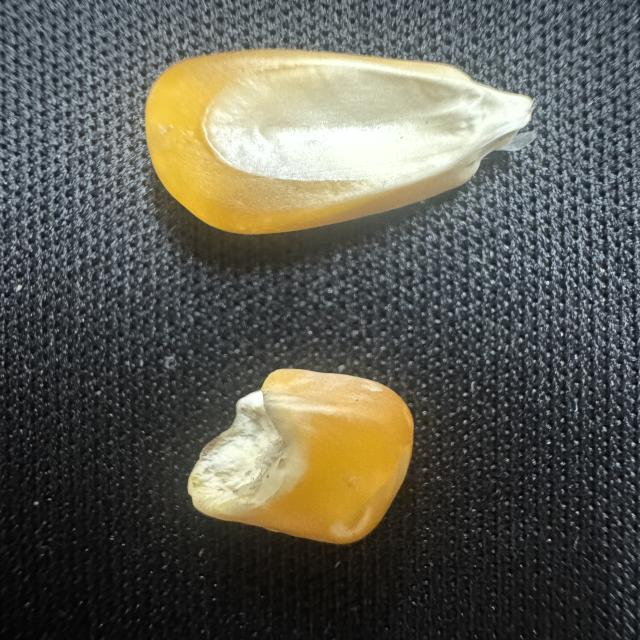Bad-Seed: (168, 362, 421, 552)
Good-Seed: (132, 43, 541, 243)
